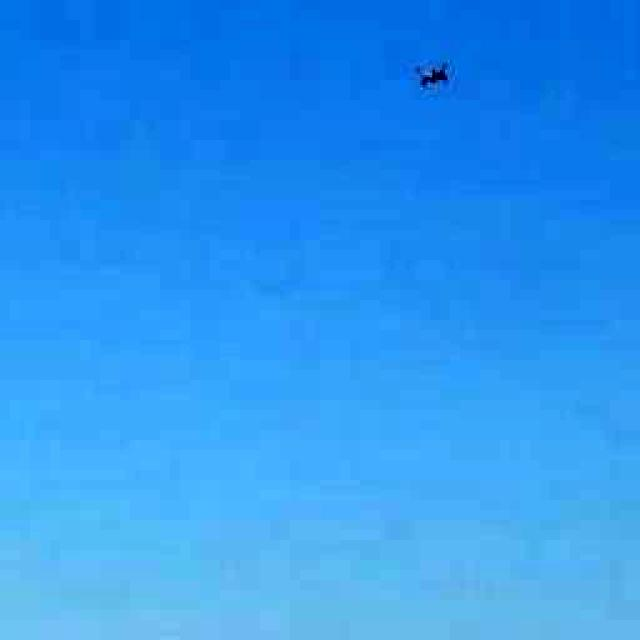bird: (398, 46, 460, 111)
